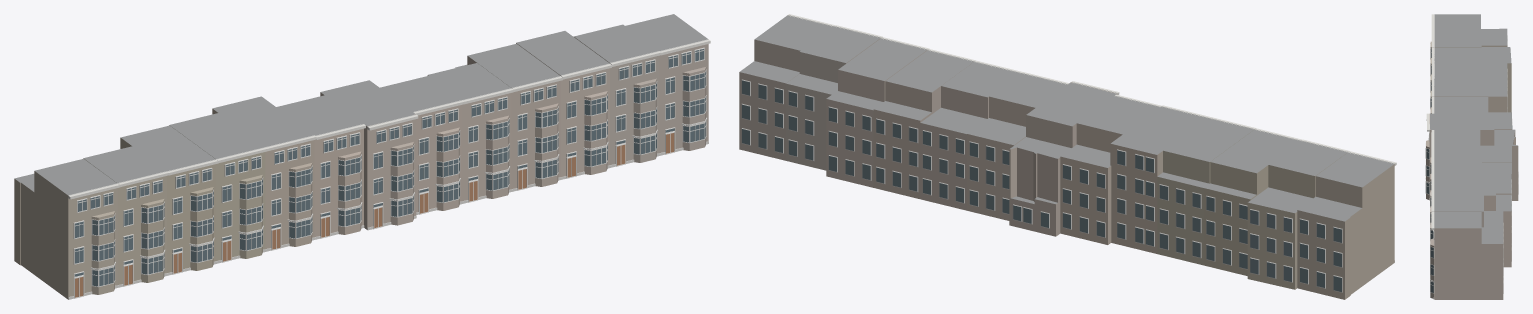
File: chunk-face-boterdiep-3-59-r1.glb
3 views of the same model, side by side, from view 1: azimuth 30°, elevation 25°; view 2: azimuth 150°, elevation 25°; view 3: azimuth 270°, elevation 25° (orthographic). The views are drawn at different scales.
Parts seen in each view (by area): view 1: face-boterdiep-3-59-r1; view 2: face-boterdiep-3-59-r1; view 3: face-boterdiep-3-59-r1.
Boxes of the visible parts, x1,y1,x2,y2 form: face-boterdiep-3-59-r1: [14, 14, 710, 299]; face-boterdiep-3-59-r1: [739, 14, 1396, 299]; face-boterdiep-3-59-r1: [1425, 14, 1518, 299].
Bounding box in the file's own units: 79.41 × 12.43 × 14.56.
